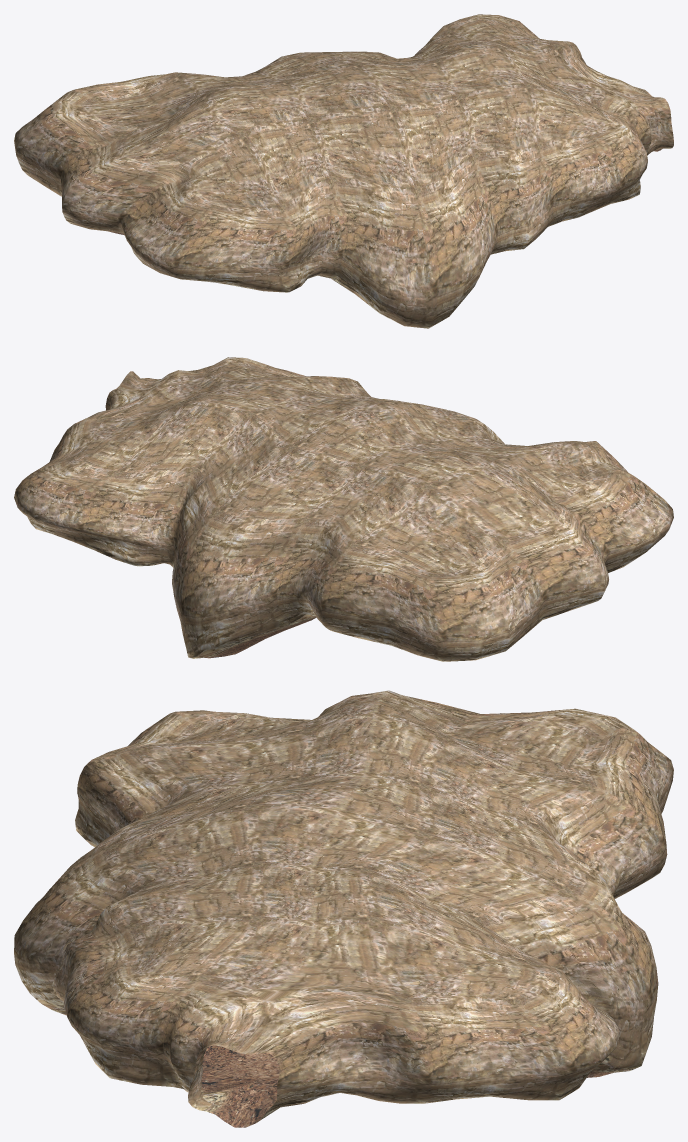
File: thm_tato_cave_s02_r21_roomaabb_mesh_r21.fbx
3 views of the same model, one above another, from view 1: azimuth 30°, elevation 25°; view 2: azimuth 150°, elevation 25°; view 3: azimuth 270°, elevation 25° (orthographic). The views are drawn at different scales.
Visible parts, largest first — view 1: mesh_node; view 2: mesh_node; view 3: mesh_node.
Part boxes in pixels (x1=…): mesh_node: x1=14, y1=14, x2=673, y2=328; mesh_node: x1=14, y1=357, x2=673, y2=661; mesh_node: x1=14, y1=690, x2=673, y2=1127.
Bounding box in the file's own units: 97.51 × 31.38 × 74.3.
